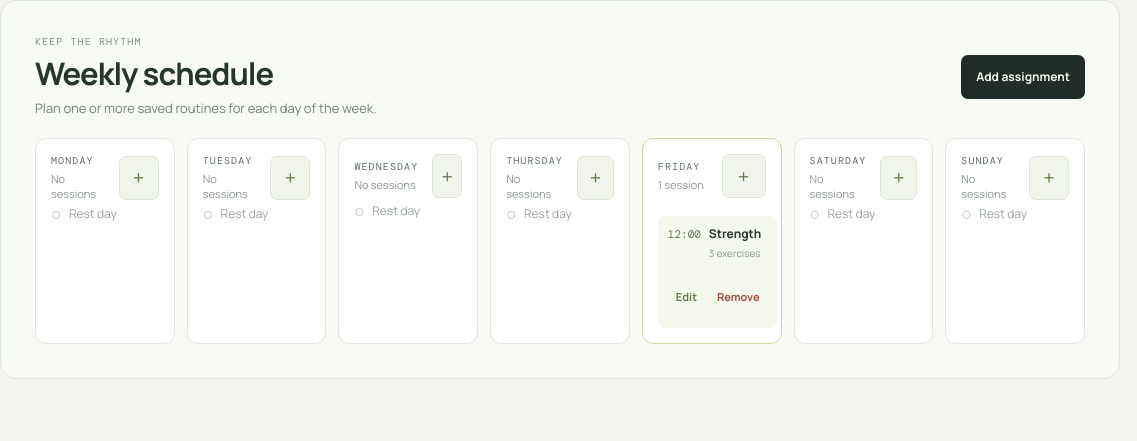
ScheduleEditor › removes an assignment and renders empty weekdays as rest days
The width and height of the screenshot is (1137, 441).
Expected: the text "Rest day" is shown 6 times, [51,201,117,225]; [203,201,268,225]; [354,198,420,222]; [506,201,572,225]; [810,201,875,225]; [961,201,1027,225]
Click the button with aria-label "Remove Friday assignment": (738, 296) [709,274,768,318]
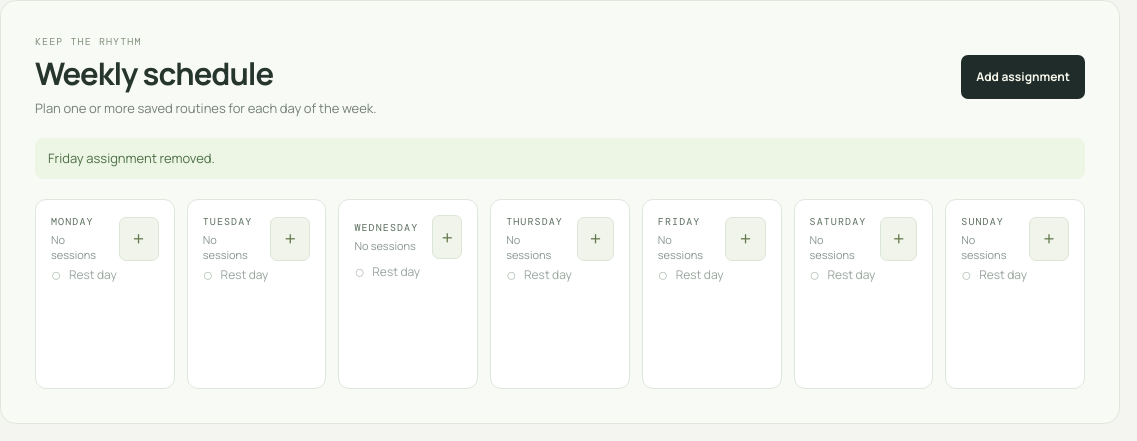
Expected: the text "Rest day" is shown 7 times
